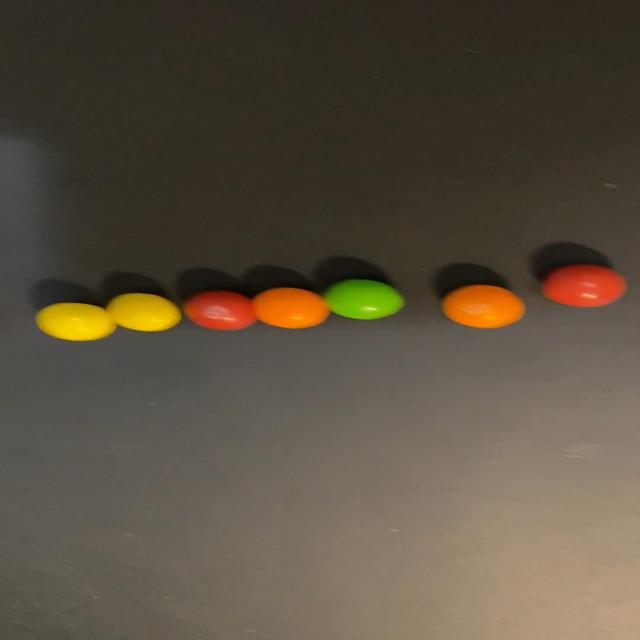smartie: (543, 264, 626, 307), (442, 285, 525, 328), (322, 279, 404, 320), (251, 287, 329, 328), (34, 303, 115, 341), (104, 293, 180, 332), (183, 291, 256, 330)
